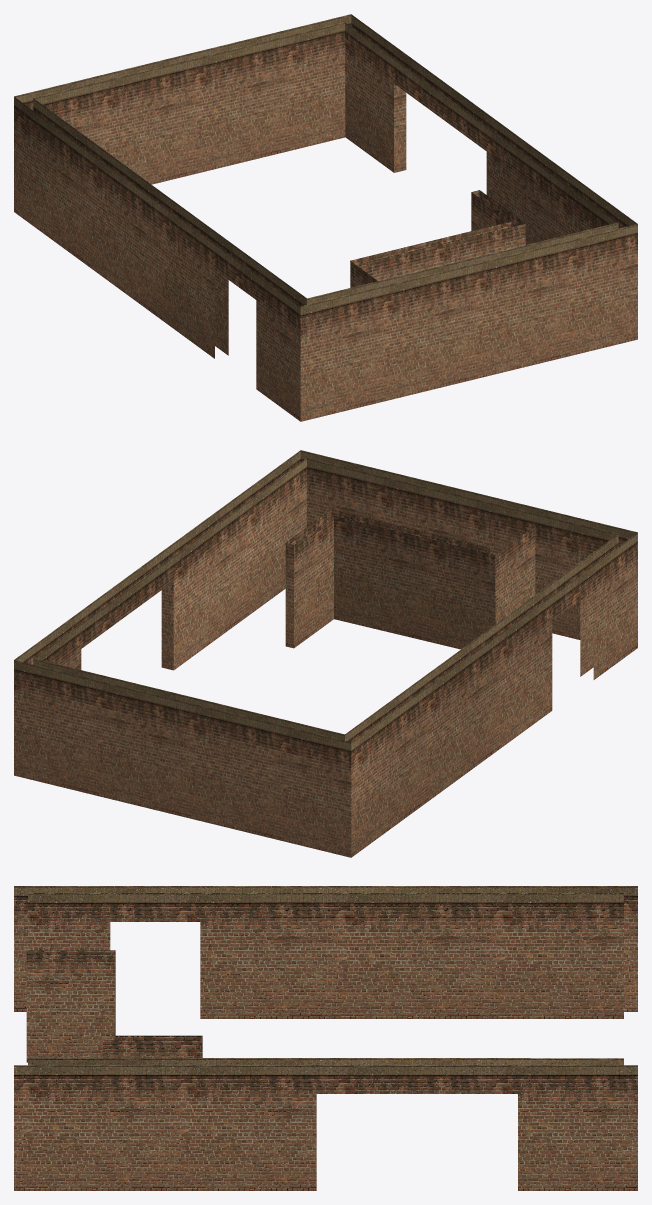
Rendered from buildingb_id_4_bricksmallbrown_dm_0_lev1.glb.
The picture shows the model from 3 angles, top to bottom: view 1: azimuth 30°, elevation 25°; view 2: azimuth 150°, elevation 25°; view 3: azimuth 270°, elevation 25°; orthographic projection. The views are drawn at different scales.
Parts seen in each view (by area): view 1: buildingb_id_4_bricksmallbrown_dm_0_lev1; view 2: buildingb_id_4_bricksmallbrown_dm_0_lev1; view 3: buildingb_id_4_bricksmallbrown_dm_0_lev1.
Part boxes in pixels (x1,y1,x2,y2): buildingb_id_4_bricksmallbrown_dm_0_lev1: (14,14,637,421); buildingb_id_4_bricksmallbrown_dm_0_lev1: (14,450,637,857); buildingb_id_4_bricksmallbrown_dm_0_lev1: (14,886,637,1190).
Bounding box in the file's own units: 6.92 × 2.27 × 10.19.
1 material, 1 textured.
